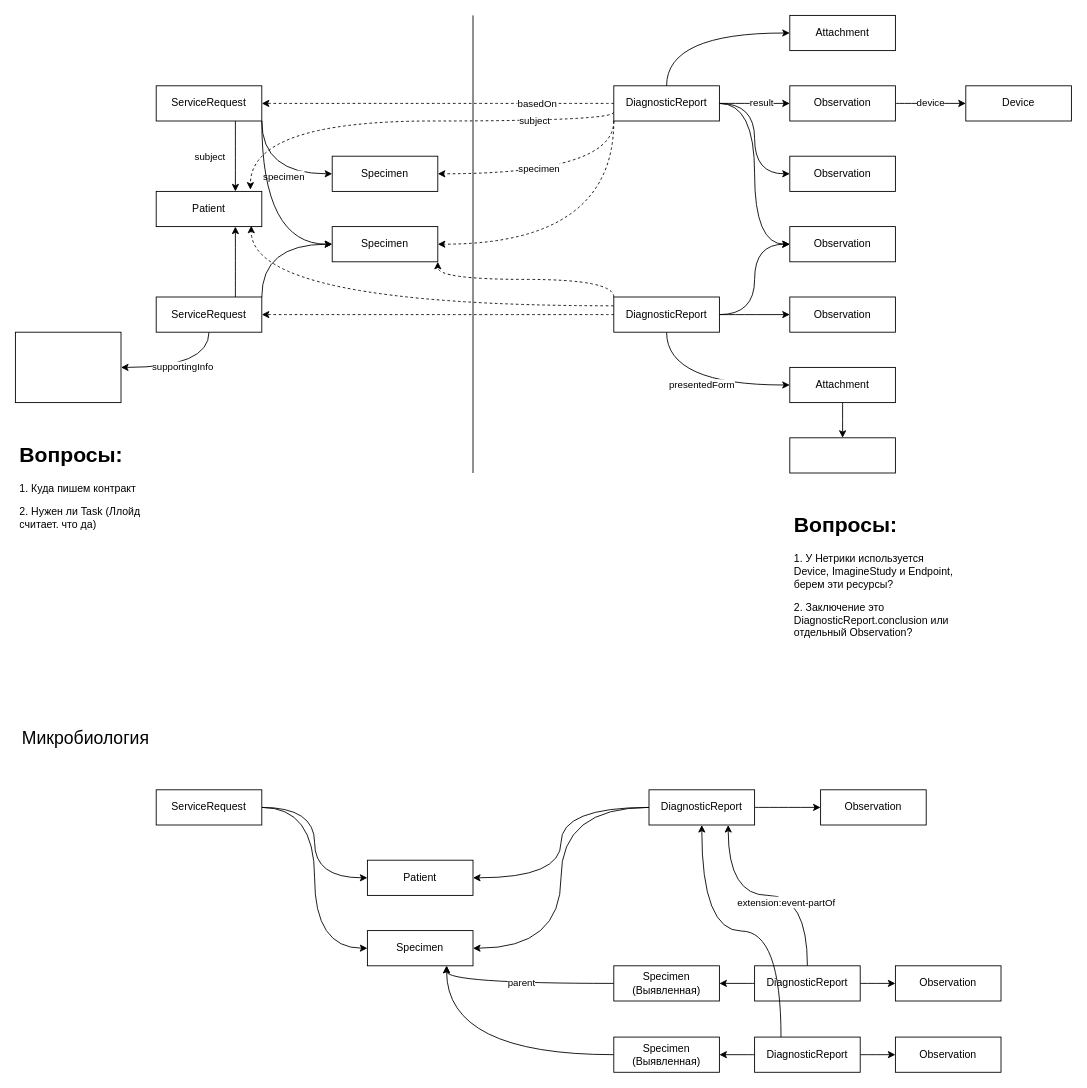
This 1087x1088 diagram has some shape labels left out. The shapes that lost their labels are listed below. From the top down, each one's centre as x and y in pixels, then its label:
the point at 68,367: Observation (Пример: Информация о принимаемых препаратах)
the point at 842,455: Binary
